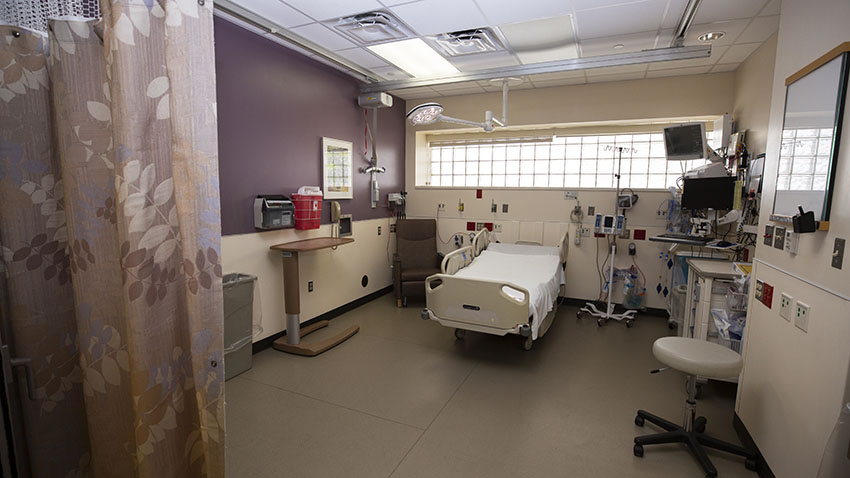bedrail: (439, 247, 475, 272), (474, 229, 489, 256), (560, 232, 571, 268)
bedside_monitor: (665, 122, 705, 161)
chair: (633, 334, 754, 478)
computer: (680, 178, 741, 210)
curtain: (1, 1, 230, 478)
foot_board: (419, 274, 534, 340)
hospital_bed: (419, 217, 571, 352)
infusion_pump: (594, 212, 626, 239)
iv_pole: (605, 145, 639, 323)
keyboard: (654, 228, 711, 246)
light_switch: (832, 240, 845, 271)
medical_drawer: (685, 257, 750, 345)
mouse: (716, 238, 732, 248)
overbed_table: (275, 239, 367, 360)
sofa: (389, 218, 449, 316)
surgical_light: (407, 100, 445, 132)
telephone: (330, 201, 341, 251)
waste_bin: (223, 273, 258, 374)
